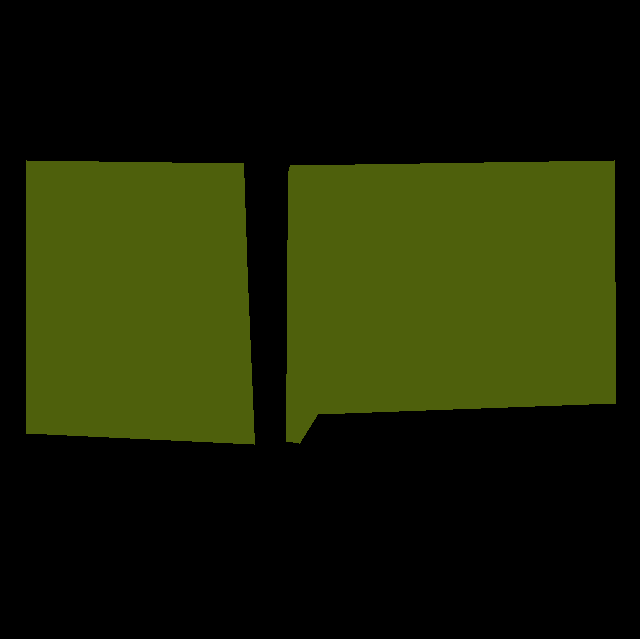Train: (26, 160, 615, 444)
